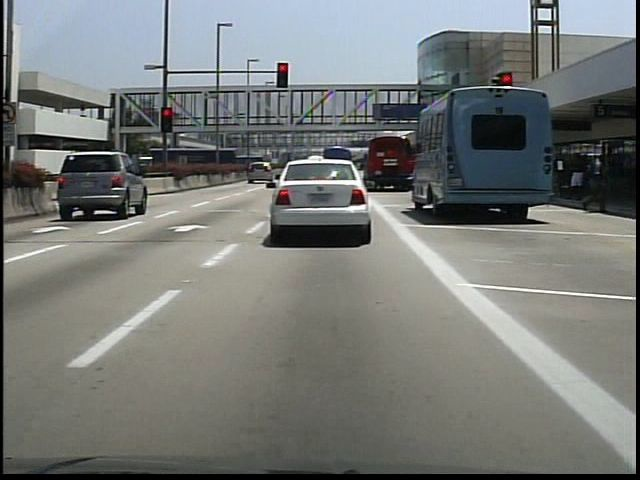person: (579, 148, 610, 214), (567, 151, 586, 202)
